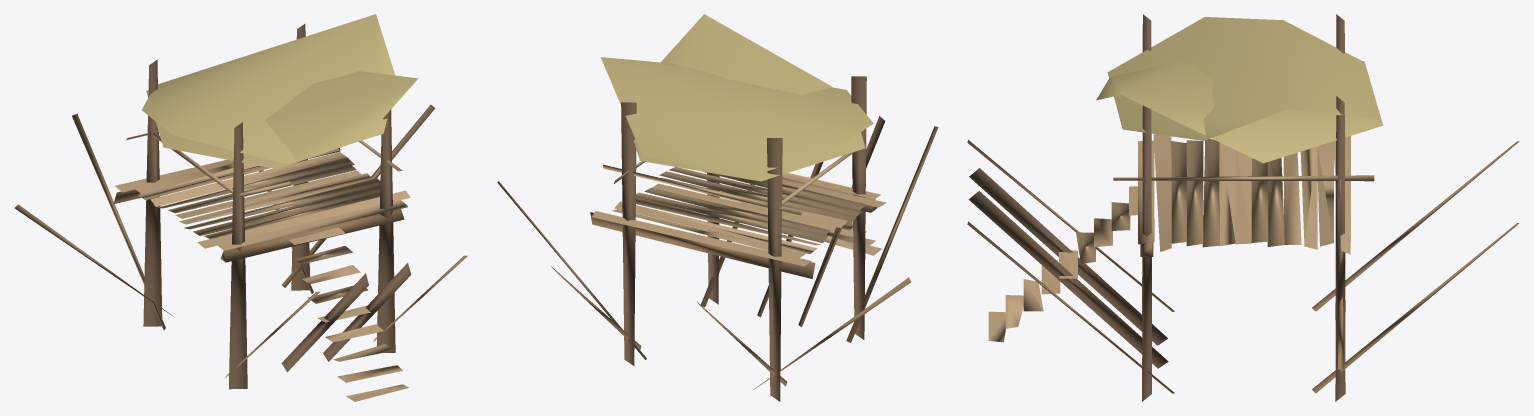
Rendered from poi_overlook_platform_lods.6cf982ad.glb.
3 views of the same model, side by side, from view 1: azimuth 30°, elevation 25°; view 2: azimuth 150°, elevation 25°; view 3: azimuth 270°, elevation 25° (orthographic). The views are drawn at different scales.
Parts seen in each view (by area): view 1: poi_overlook_platform_far; view 2: poi_overlook_platform_far; view 3: poi_overlook_platform_far.
Part boxes in pixels (box(x1,y1,x2,y2)): poi_overlook_platform_far: box(14, 14, 467, 401); poi_overlook_platform_far: box(497, 14, 938, 401); poi_overlook_platform_far: box(967, 14, 1519, 401).
Size of what is drawn, in the model's own units: 9.1 by 5.8 by 9.14.
